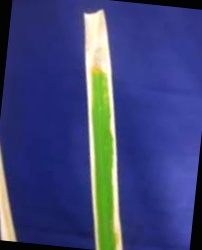Leaf_Blast: (70, 9, 139, 248)
